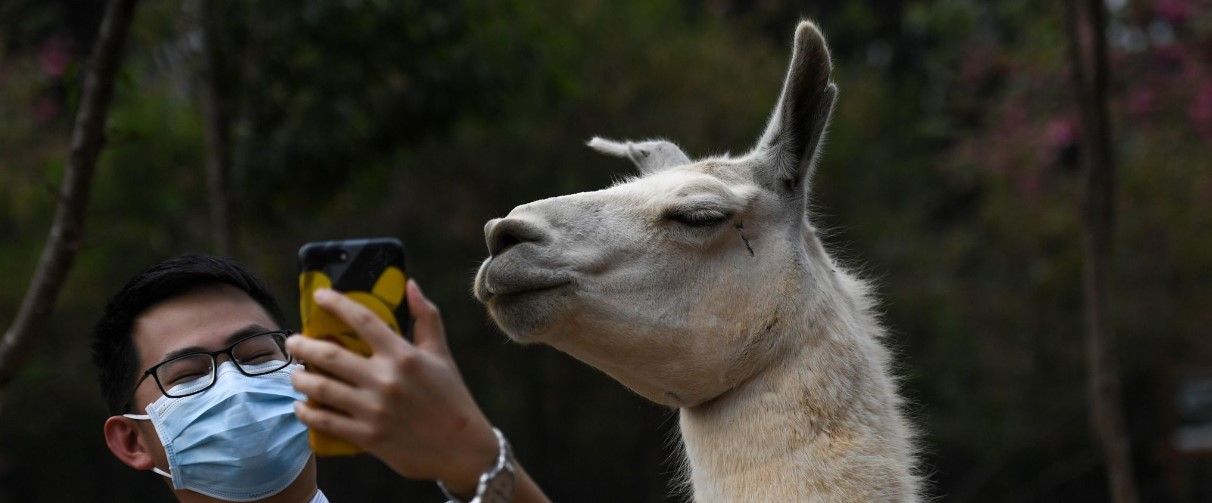face_with_mask: (89, 252, 327, 497)
